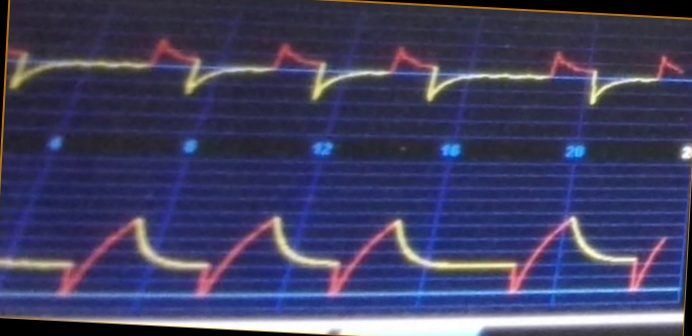Flow: (8, 23, 686, 136)
Leakage Volume: (1, 202, 666, 308)
